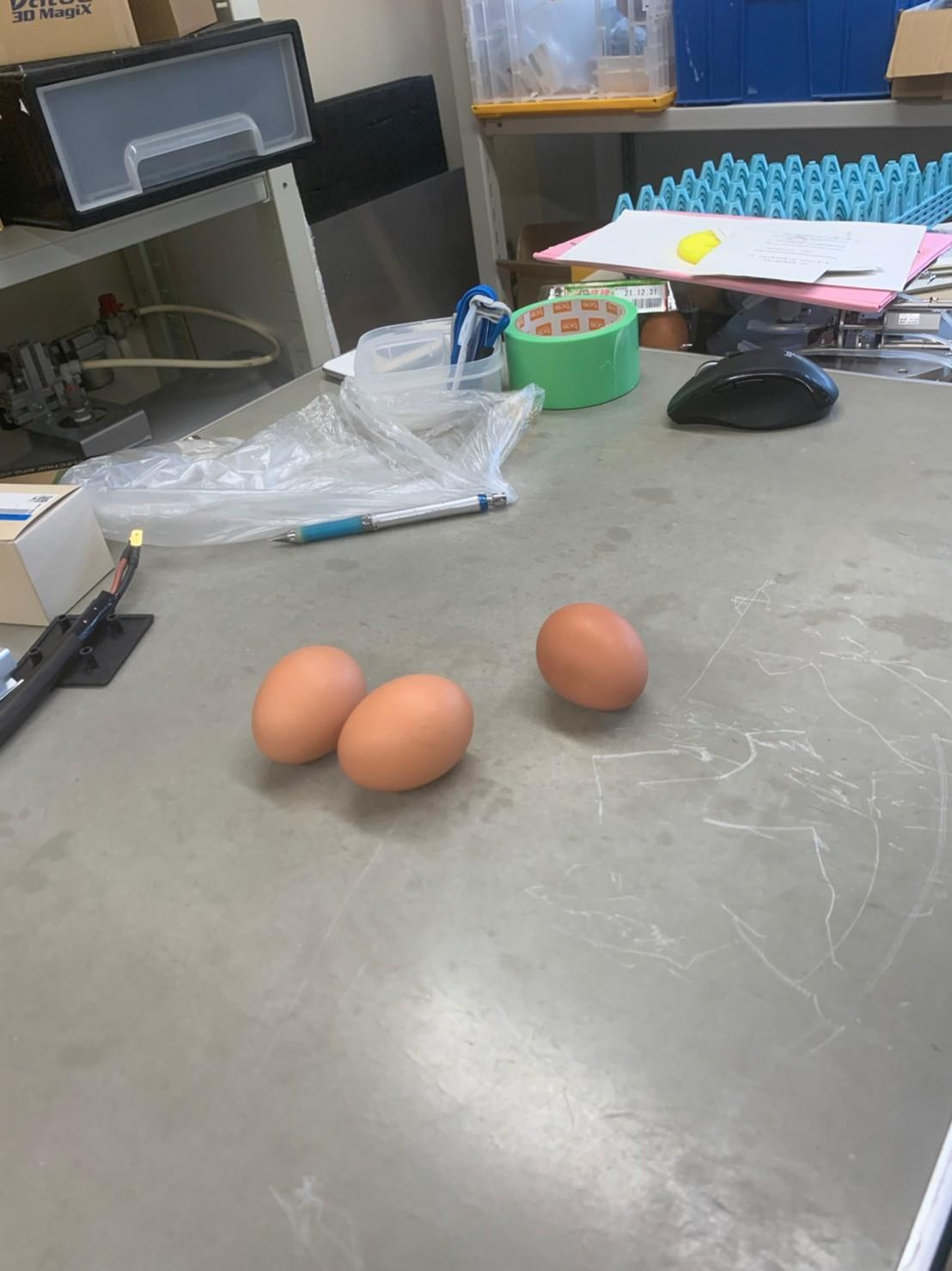egg: (341, 660, 476, 797), (528, 589, 653, 718), (245, 642, 362, 764)
